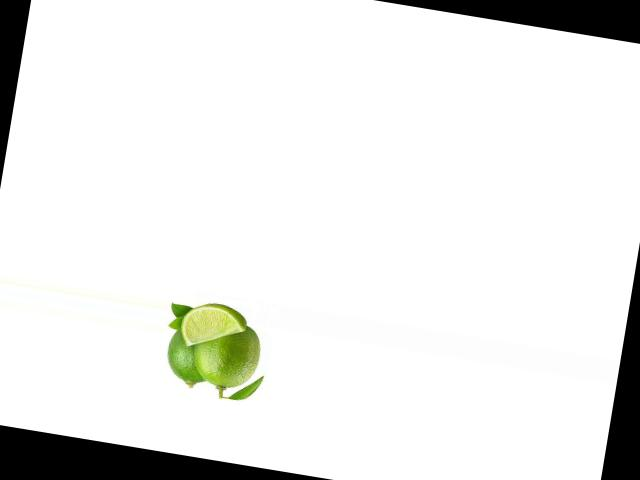lemon: (190, 321, 264, 395)
